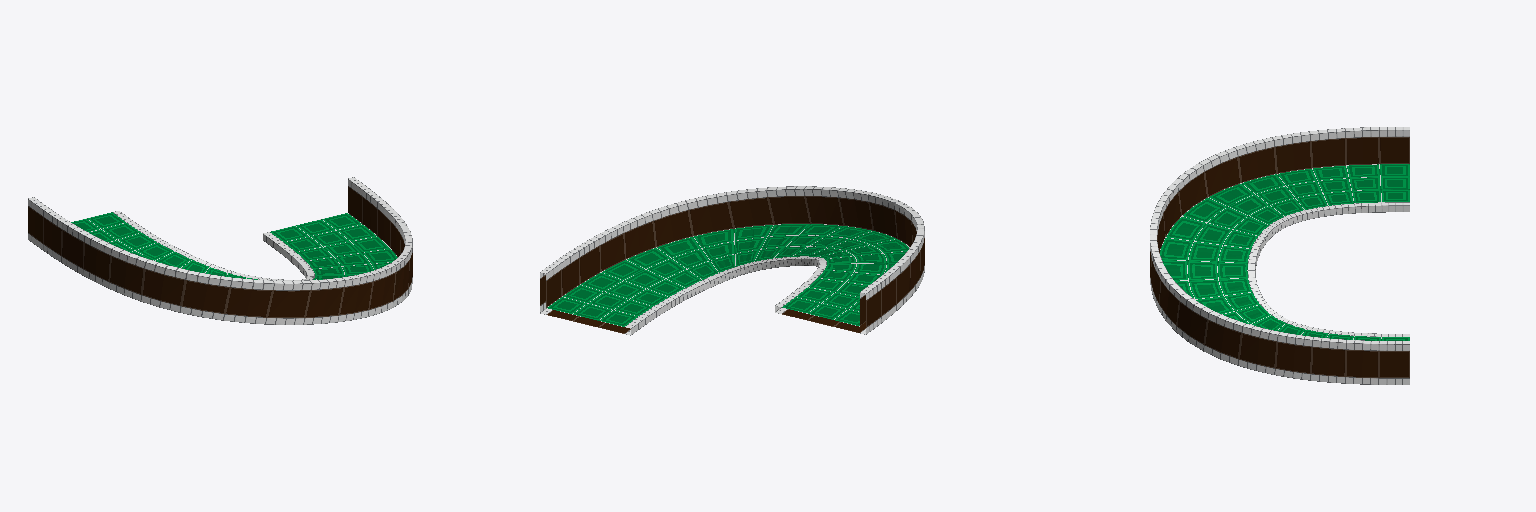
3 renders of one model, left to right at view 1: azimuth 30°, elevation 25°; view 2: azimuth 150°, elevation 25°; view 3: azimuth 270°, elevation 25°, orthographic.
Parts seen in each view (by area): view 1: Cube_Cube.001; view 2: Cube_Cube.001; view 3: Cube_Cube.001.
Part boxes in pixels (left/top/right/bottom): Cube_Cube.001: left=28, top=177, right=412, bottom=324; Cube_Cube.001: left=540, top=186, right=924, bottom=335; Cube_Cube.001: left=1150, top=127, right=1409, bottom=384.
Size of the model in its own units: 25 by 7.25 by 17.28.
Materials: 3 (3 with a texture image).